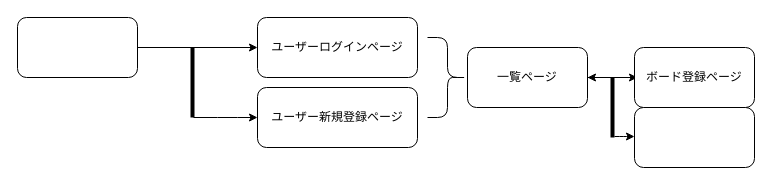
This 772x185 diagram has some shape labels left out. Each missing label, with the centre of its shape:
ホーム画面: [77,47]
ログアウト: [694,137]
